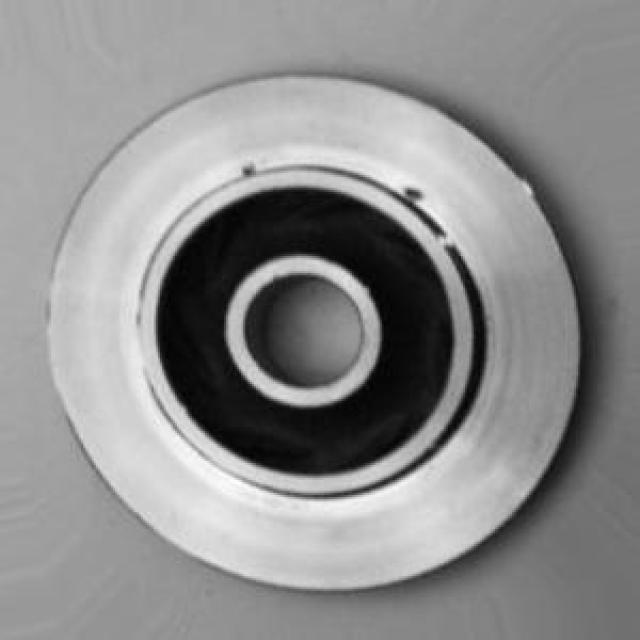Defect: (231, 154, 269, 185)
